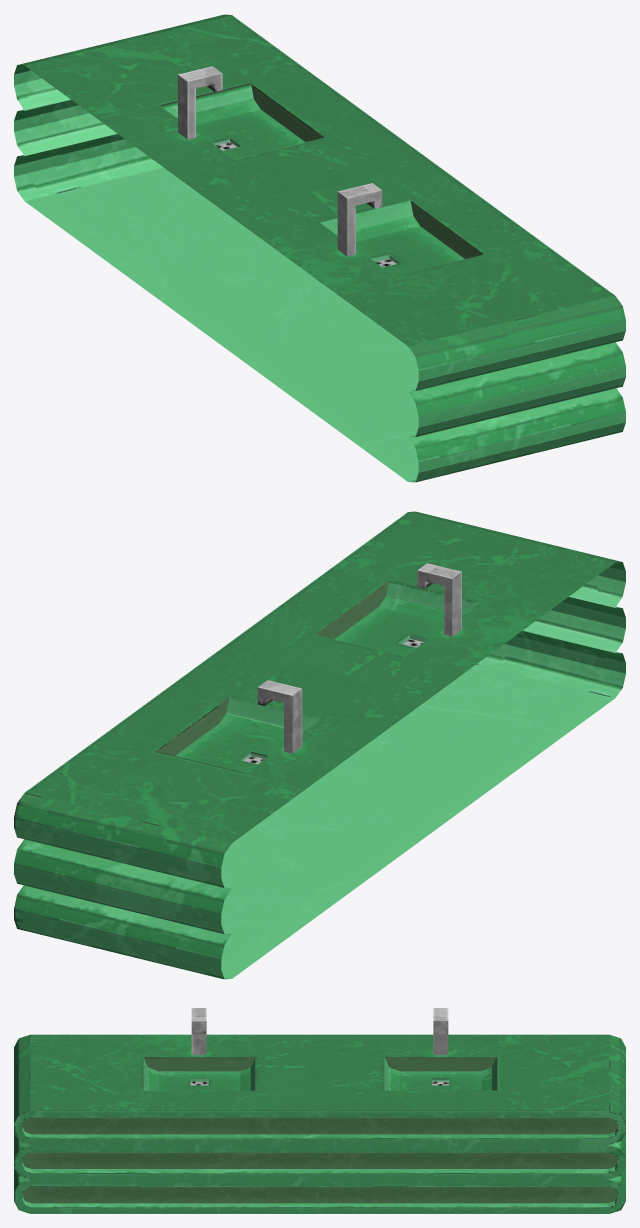
File: PROP_020_WCSink.fbx
3 renders of one model, top to bottom at view 1: azimuth 30°, elevation 25°; view 2: azimuth 150°, elevation 25°; view 3: azimuth 270°, elevation 25°, orthographic. The views are drawn at different scales.
Visible parts, largest first — view 1: Manos_Limpias_003; view 2: Manos_Limpias_003; view 3: Manos_Limpias_003.
Part boxes in pixels (x1,y1,x2,y2): Manos_Limpias_003: [14, 14, 625, 482]; Manos_Limpias_003: [14, 511, 625, 979]; Manos_Limpias_003: [14, 1008, 625, 1213].
Bounding box in the file's own units: 0.8 × 0.7135 × 2.7.
1 material, 1 textured.
